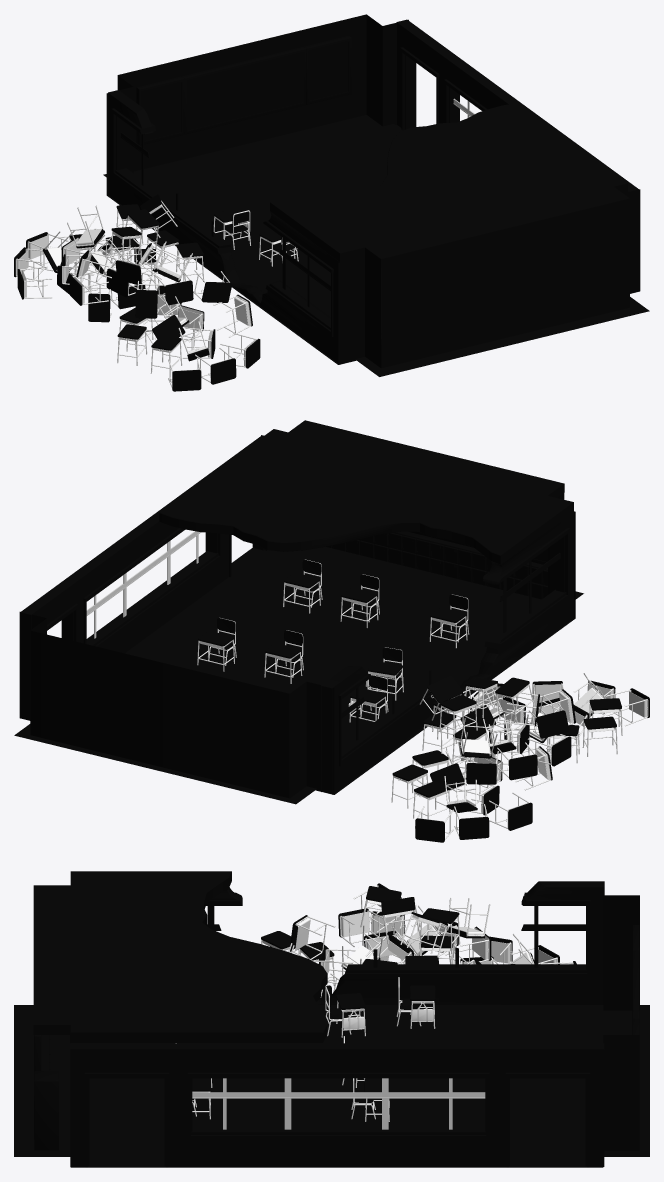
File: classroom-night.glb
The picture shows the model from 3 angles, top to bottom: view 1: azimuth 30°, elevation 25°; view 2: azimuth 150°, elevation 25°; view 3: azimuth 270°, elevation 25°; orthographic projection. The views are drawn at different scales.
Visible parts, largest first — view 1: 底面.001, 天花板2, Plane.001, Cylinder.061, 黑板前, 左墙.001, 右墙, 窗杆左; view 2: Plane.001, 天花板2, 底面.001, Cylinder.061, 左墙.001, 右墙, 柜子板, 窗杆右, 窗杆左, 底面, 柜子, Cylinder.013 (+4 smaller); view 3: 天花板2, Plane.001, 右墙, 左墙.001, Cylinder.061, 底面.001, 窗杆右, 底面, 高柜子, 窗杆左, 黑板前, Cylinder.004 (+1 smaller).
Part boxes in pixels (x1=…): 底面.001: x1=106, y1=14, x2=640, y2=368; 天花板2: x1=270, y1=103, x2=629, y2=267; Plane.001: x1=103, y1=115, x2=649, y2=376; Cylinder.061: x1=14, y1=194, x2=260, y2=391; 黑板前: x1=136, y1=35, x2=351, y2=145; 左墙.001: x1=108, y1=90, x2=339, y2=362; 右墙: x1=396, y1=19, x2=638, y2=191; 窗杆左: x1=120, y1=132, x2=330, y2=307; Plane.001: x1=14, y1=546, x2=583, y2=804; 天花板2: x1=159, y1=420, x2=573, y2=564; 底面.001: x1=19, y1=435, x2=575, y2=798; Cylinder.061: x1=391, y1=673, x2=649, y2=842; 左墙.001: x1=321, y1=511, x2=573, y2=794; 右墙: x1=20, y1=435, x2=266, y2=718; 柜子板: x1=326, y1=533, x2=547, y2=599; 窗杆右: x1=86, y1=531, x2=200, y2=638; 窗杆左: x1=341, y1=553, x2=560, y2=740; 底面: x1=125, y1=547, x2=575, y2=794; 柜子: x1=359, y1=531, x2=547, y2=585; Cylinder.013: x1=429, y1=607, x2=467, y2=648; 天花板2: x1=33, y1=871, x2=327, y2=1042; Plane.001: x1=14, y1=1005, x2=649, y2=1156; 右墙: x1=70, y1=1043, x2=604, y2=1167; 左墙.001: x1=206, y1=881, x2=604, y2=1004; Cylinder.061: x1=261, y1=883, x2=576, y2=997; 底面.001: x1=70, y1=895, x2=639, y2=1150; 窗杆右: x1=192, y1=1078, x2=485, y2=1129; 底面: x1=70, y1=998, x2=603, y2=1167; 高柜子: x1=34, y1=1071, x2=58, y2=1150; 窗杆左: x1=207, y1=906, x2=585, y2=967; 黑板前: x1=632, y1=925, x2=639, y2=1034; Cylinder.004: x1=336, y1=993, x2=365, y2=1037.
Size of what is drawn, in the model's own units: 10.48 by 3.27 by 11.39.
16 materials, 14 textured.
